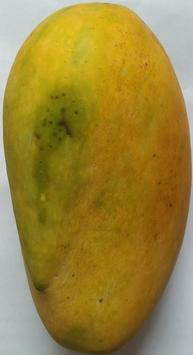Ripe: (1, 0, 193, 355)
